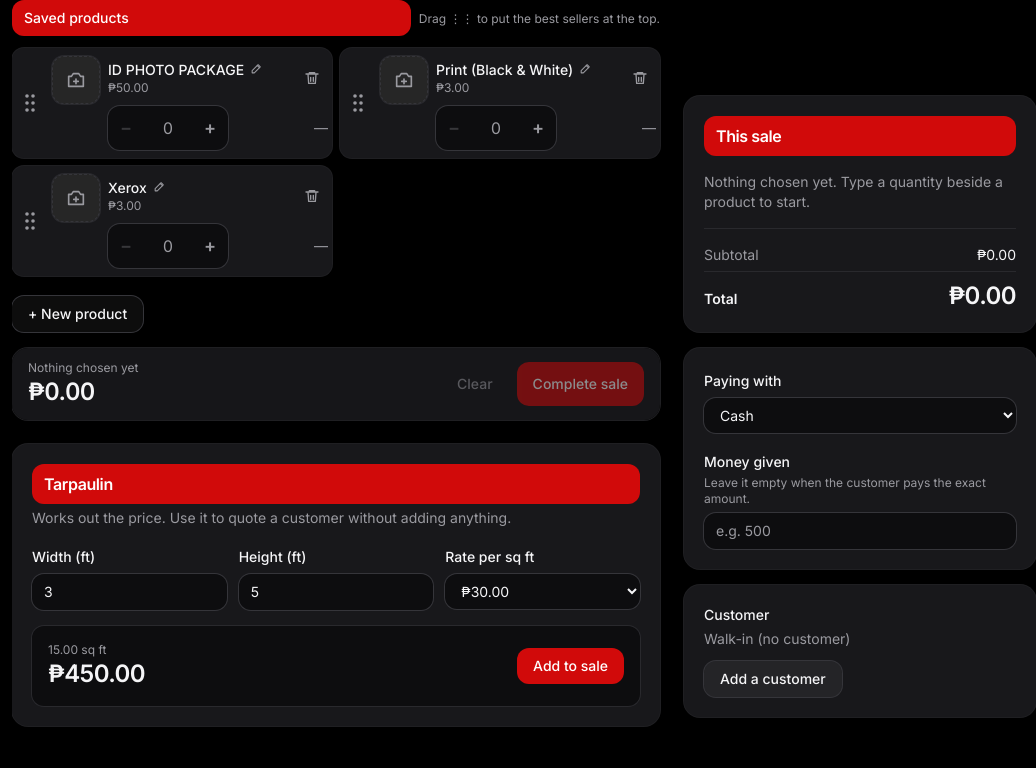
Test: the saved products list › works out each line and the grand total as quantities are typed
Type "2" into the field named "Quantity of ID PHOTO PACKAGE".
click(168, 128); type("2")  # box [144,106,192,150]
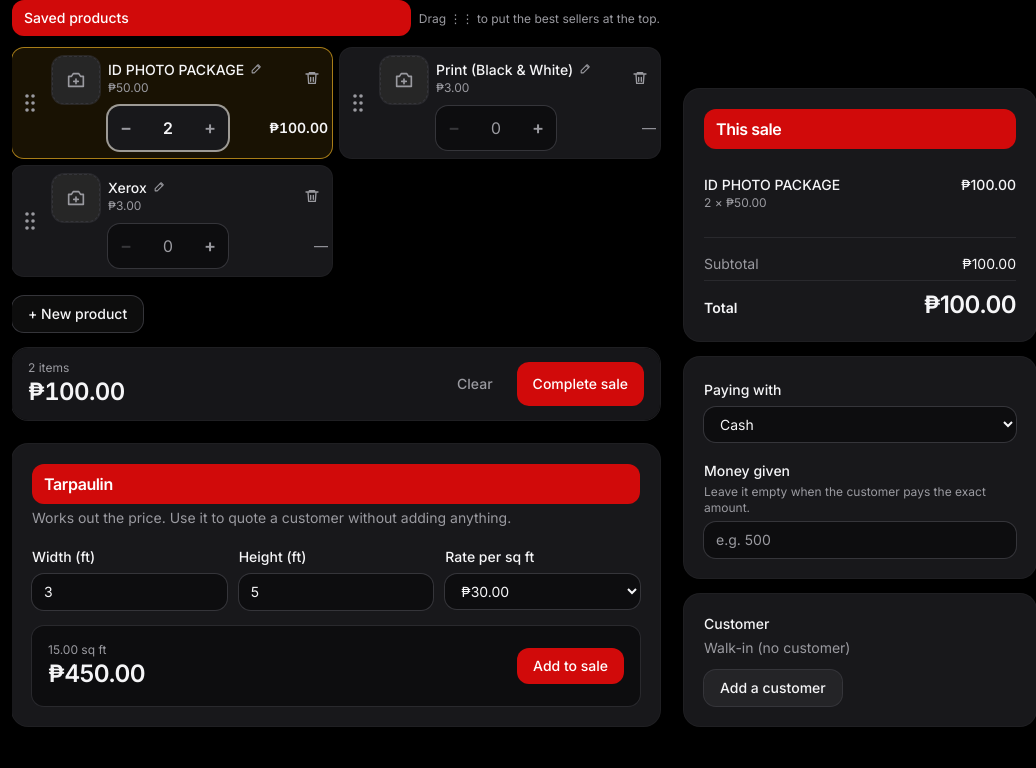
Type "10" into the field named "Quantity of Print (Black & White)".
click(496, 128); type("10")  # box [472,106,520,150]
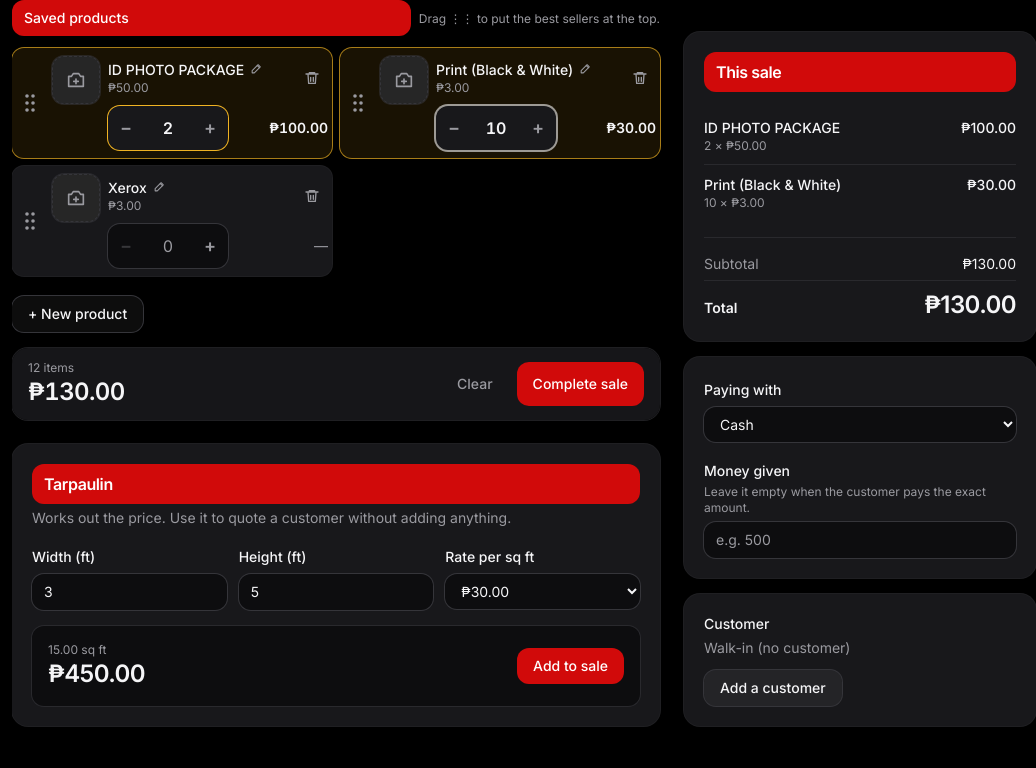
Expected: the 1st text "₱100.00" is shown, [269,118,328,138]
Expected: the 1st text "₱30.00" is shown, [606,118,656,138]
Expected: the text "₱130.00" below "12 items" is shown, [28,377,125,406]
